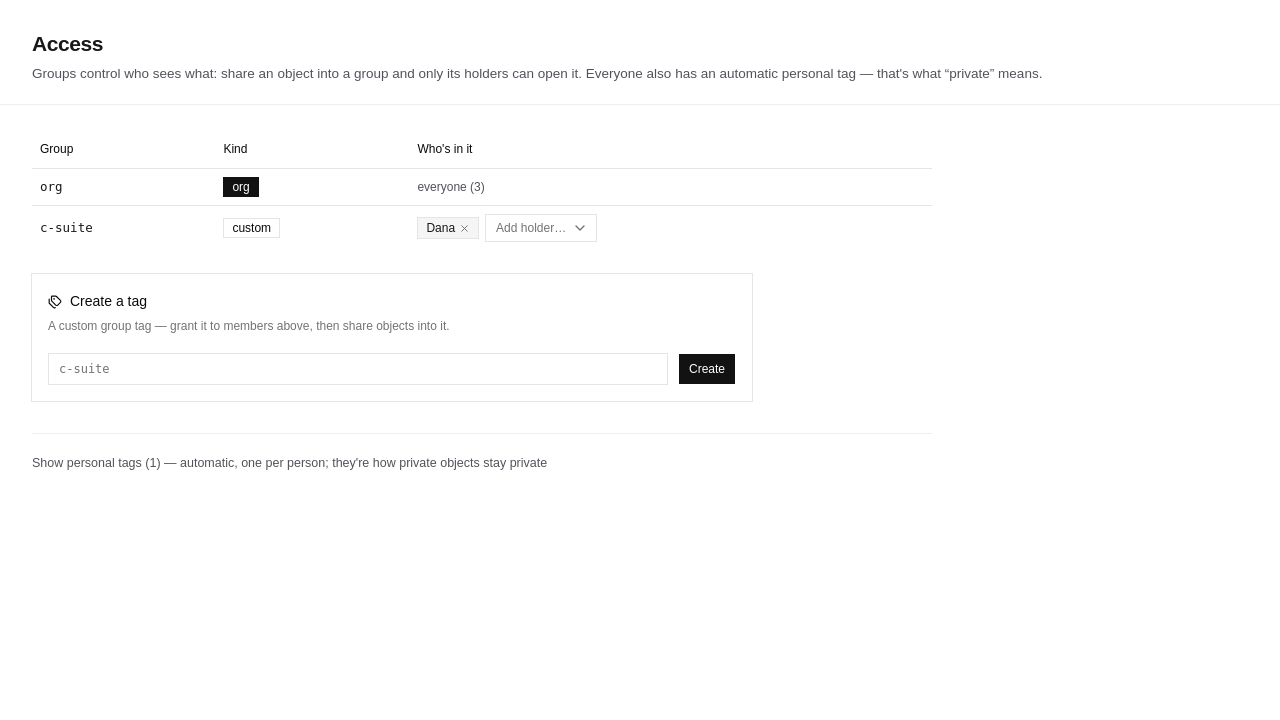
Test: <AccessView /> › removes a holder via the chip's × and surfaces the server's error verbatim
Expected: the text "c-suite" is shown, [32, 206, 215, 250]
Click the button named "Remove Dana from c-suite" at [465, 228], box [459, 223, 470, 234]
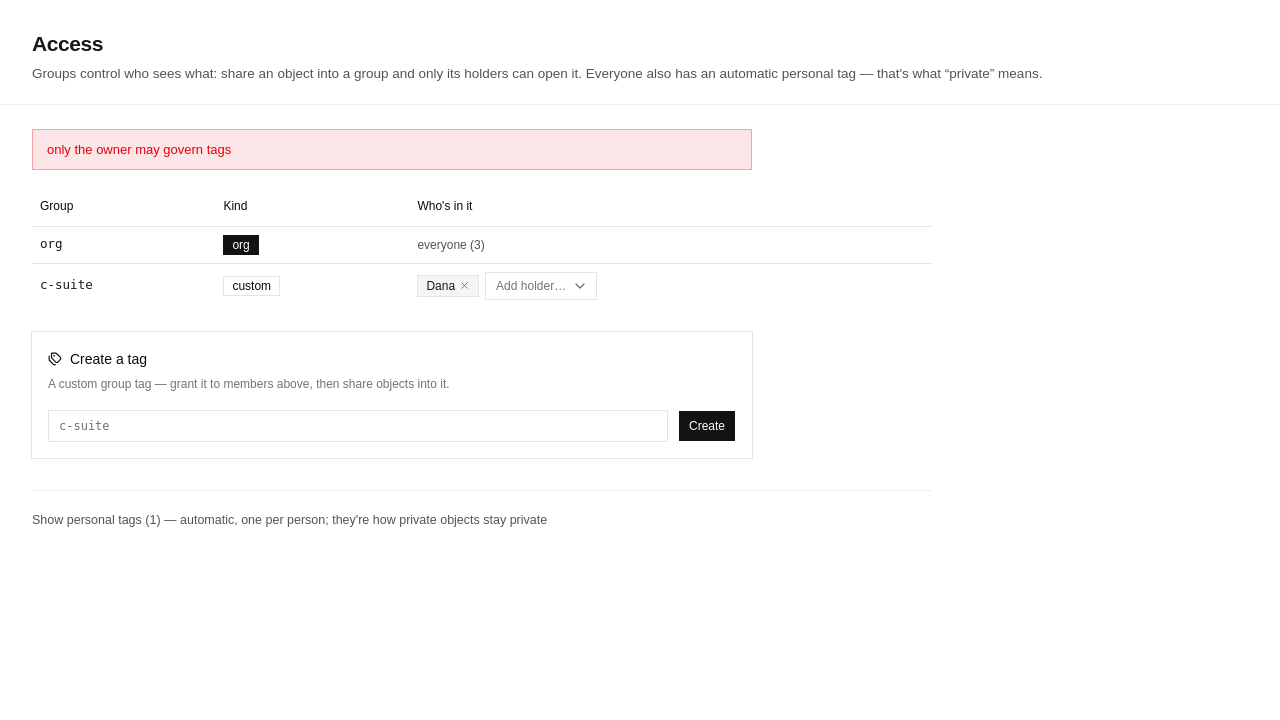
Expected: the text "only the owner may govern tags" is shown, [32, 129, 752, 170]
